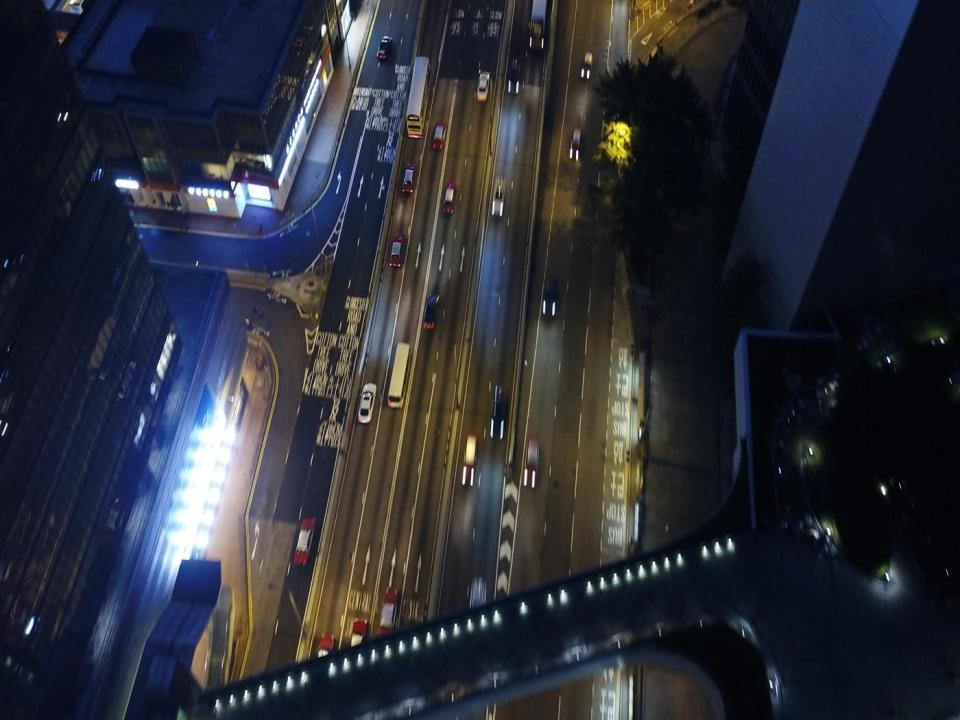bus: (406, 57, 431, 139), (387, 342, 411, 408), (527, 0, 546, 48)
car: (465, 576, 487, 640), (377, 587, 398, 636), (295, 517, 315, 565), (348, 619, 367, 669), (462, 430, 478, 486), (316, 633, 333, 681), (490, 384, 504, 438), (524, 436, 538, 488), (358, 383, 376, 422), (491, 175, 505, 216), (424, 292, 439, 329), (543, 278, 556, 316), (442, 183, 457, 213), (390, 234, 403, 267), (569, 129, 582, 162), (432, 120, 446, 150), (508, 59, 519, 94), (402, 164, 415, 193), (477, 71, 490, 100), (376, 36, 392, 58), (581, 51, 592, 80)
